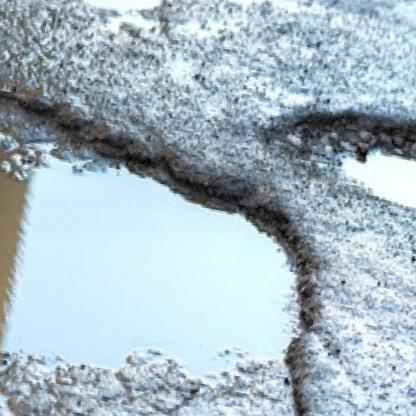pothole: (0, 60, 349, 414), (254, 78, 416, 238)
